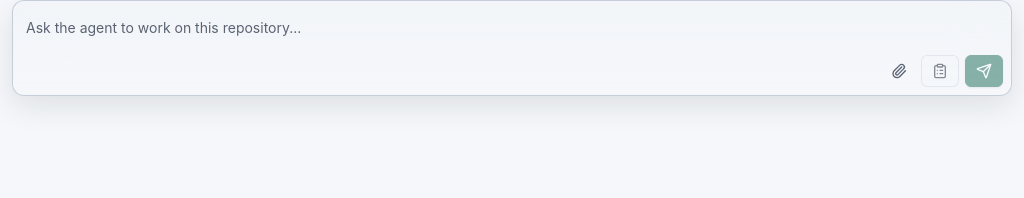
Test: cmd or ctrl shift enter queues the draft on the server
The image size is (1024, 198).
Type "Queued prompt" into the text box named "Prompt" at (512, 28), box [21,9,1003,47]
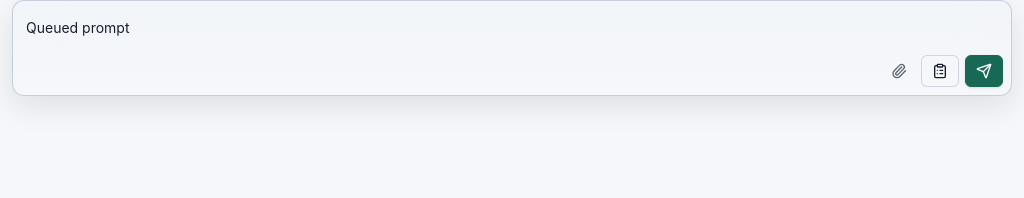
Type keys "{Meta>}{Shift>}{Enter}{/Shift}{/Meta}"
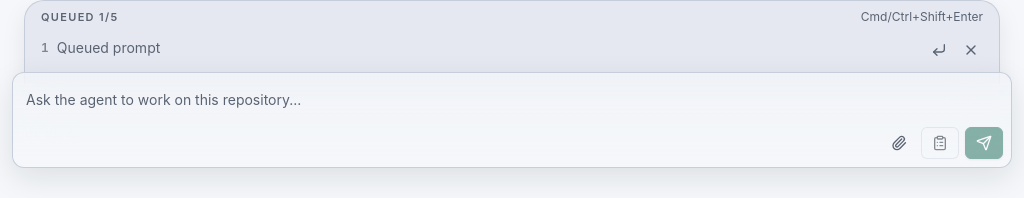
Result: the text box named "Prompt" is empty at [21,80,1003,118]
Result: the text "Queued prompt" is shown at [57,38,160,56]
